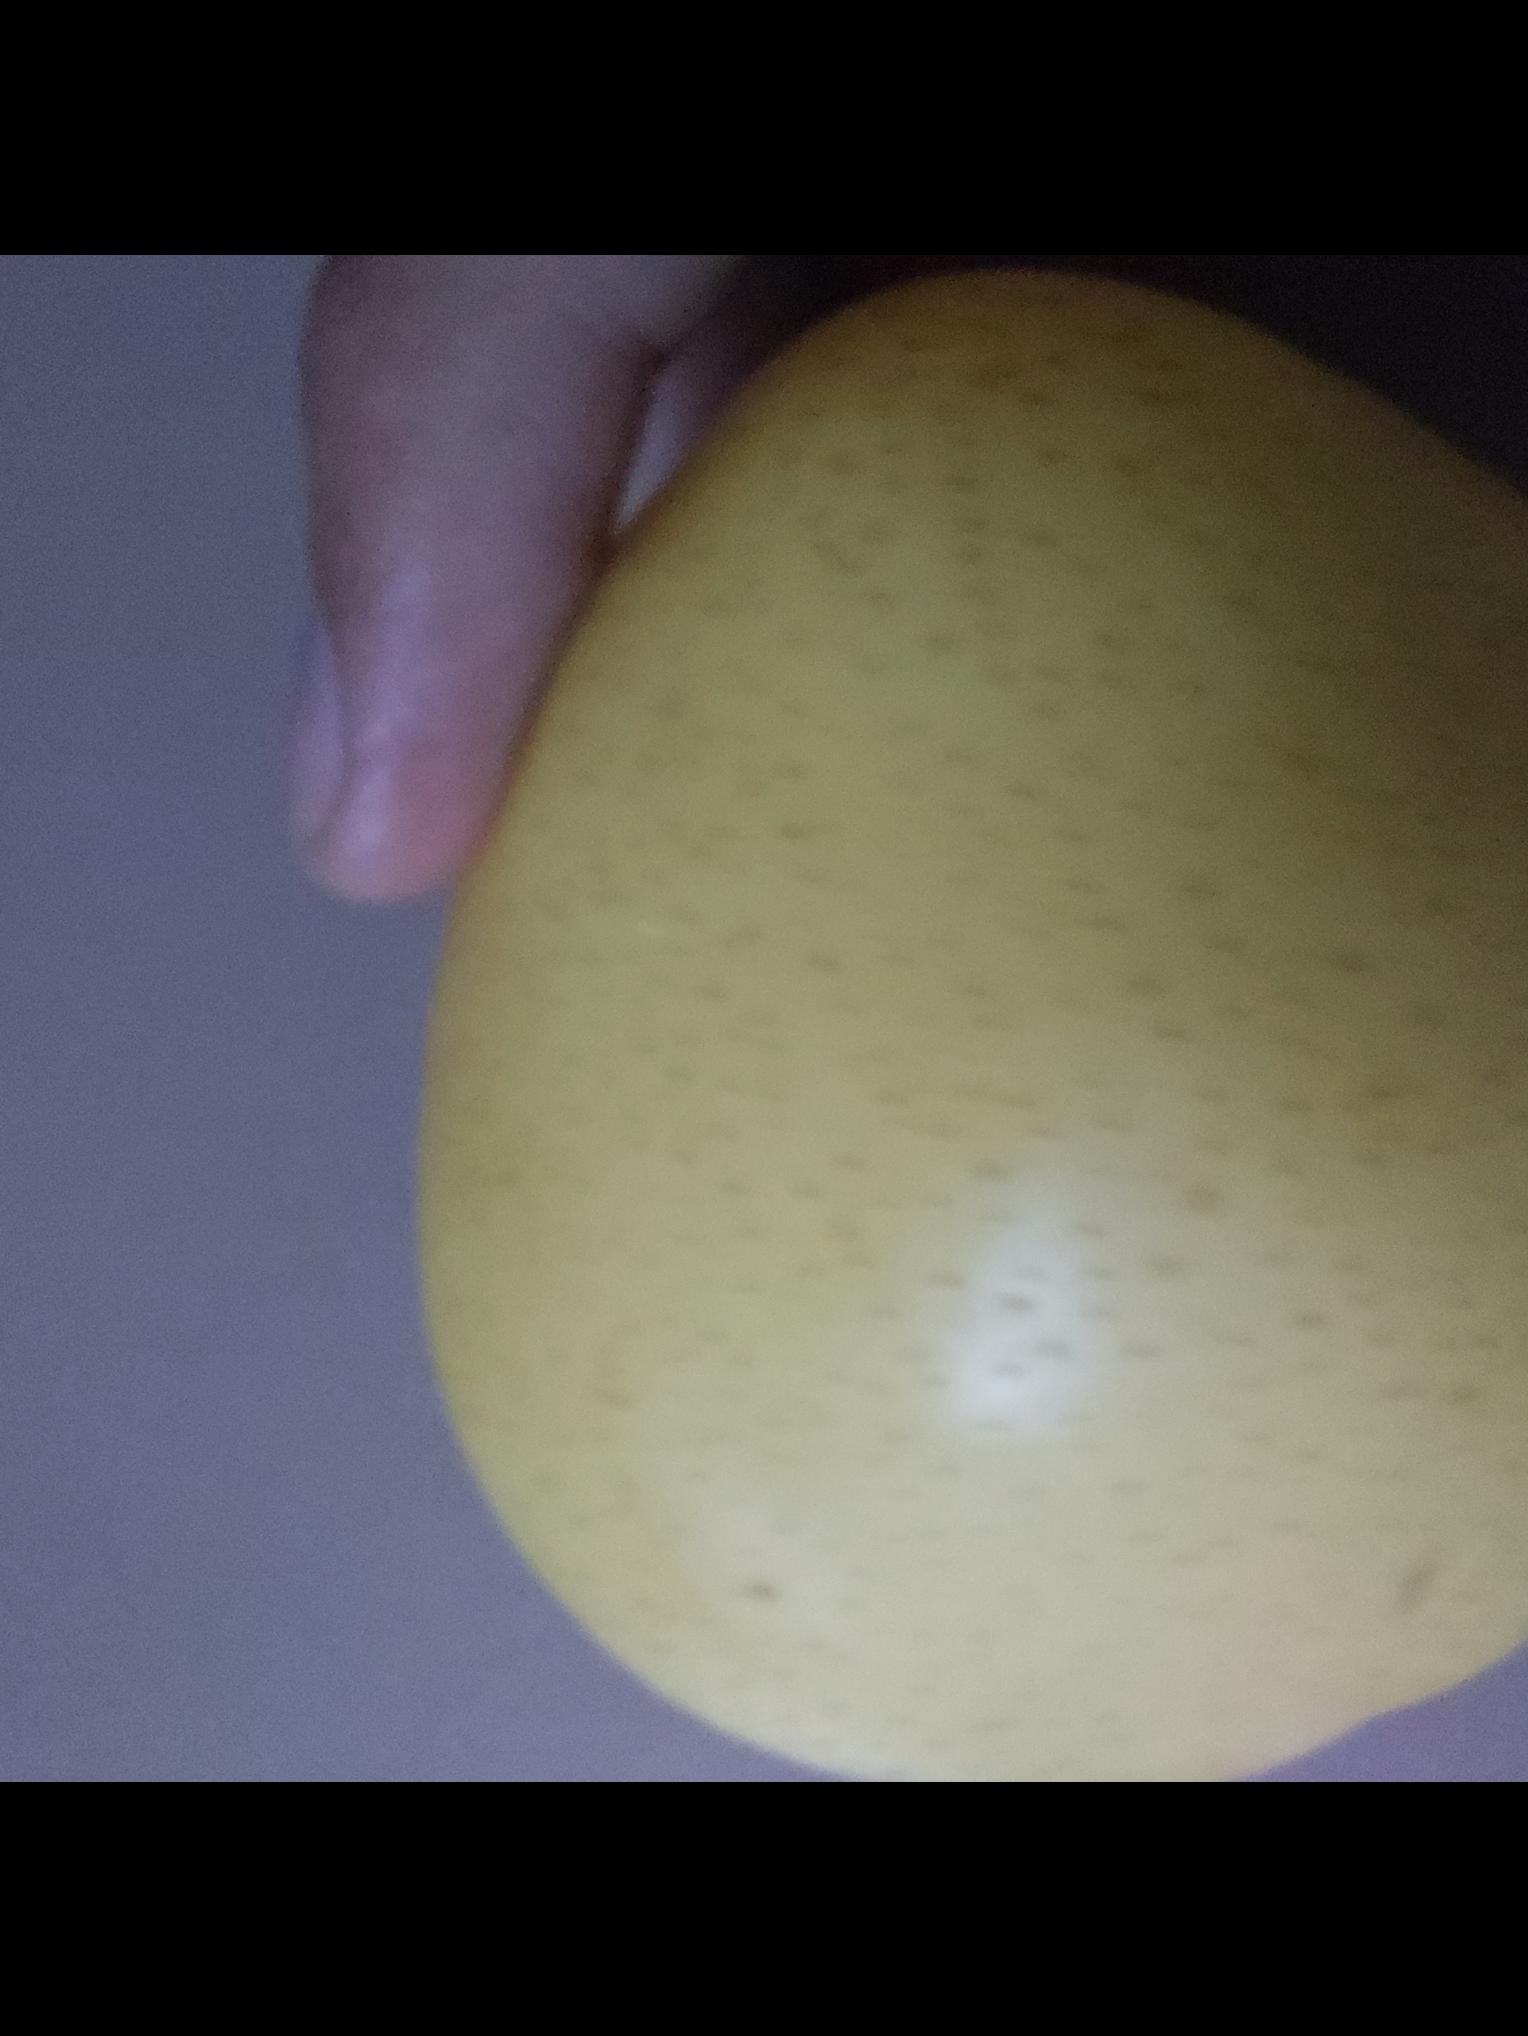Good Pear: (636, 265, 1528, 1783)
